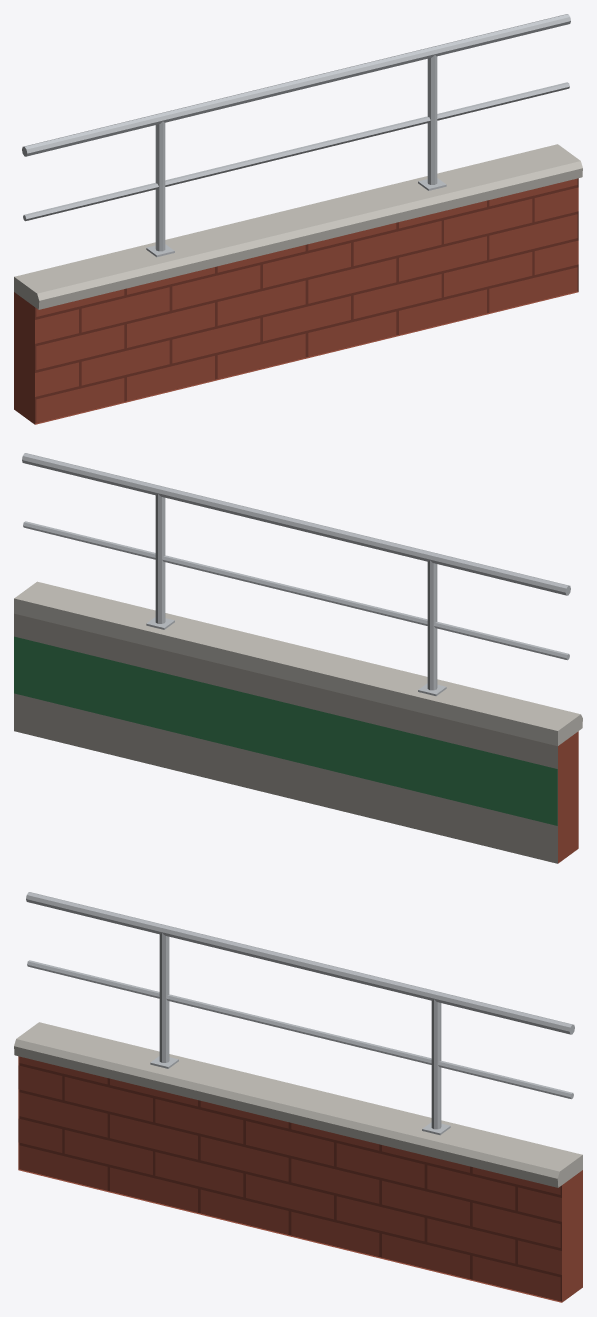
File: SC_Bld_Villa_Roof_Railing_3m.gltf
The picture shows the model from 3 angles, top to bottom: view 1: azimuth 30°, elevation 25°; view 2: azimuth 150°, elevation 25°; view 3: azimuth 330°, elevation 25°; orthographic projection.
Visible parts, largest first — view 1: SC_Bld_Villa_Roof_Railing_3m; view 2: SC_Bld_Villa_Roof_Railing_3m; view 3: SC_Bld_Villa_Roof_Railing_3m.
Boxes of the visible parts, x1,y1,x2,y2 form: SC_Bld_Villa_Roof_Railing_3m: (14, 14, 582, 424); SC_Bld_Villa_Roof_Railing_3m: (14, 453, 582, 863); SC_Bld_Villa_Roof_Railing_3m: (14, 892, 582, 1302).
Size of the model in its own units: 3 by 1.43 by 0.2415.
1 material, 1 textured.
